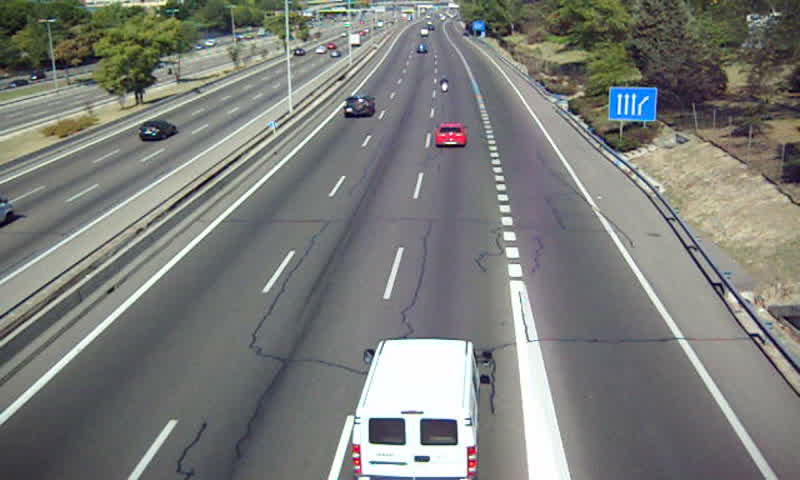car: (342, 95, 375, 117), (436, 123, 466, 147)
motorcycle: (438, 75, 450, 93)
van: (354, 339, 477, 480)
